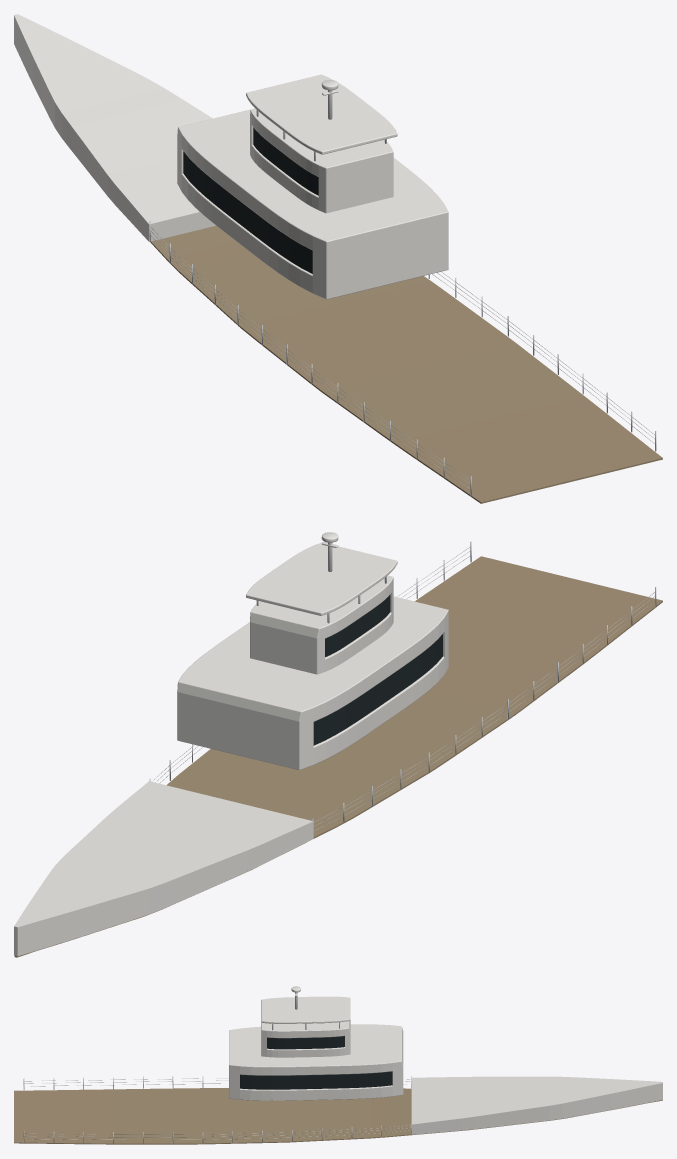
File: sovrastruttura.glb
The picture shows the model from 3 angles, top to bottom: view 1: azimuth 30°, elevation 25°; view 2: azimuth 150°, elevation 25°; view 3: azimuth 270°, elevation 25°; orthographic projection. The views are drawn at different scales.
Parts seen in each view (by area): view 1: COPERTA_MESH, SOVRASTRUTTURA_MESH; view 2: COPERTA_MESH, SOVRASTRUTTURA_MESH; view 3: COPERTA_MESH, SOVRASTRUTTURA_MESH.
Part boxes in pixels (x1=…): COPERTA_MESH: x1=14, y1=14, x2=662, y2=503; SOVRASTRUTTURA_MESH: x1=177, y1=74, x2=448, y2=299; COPERTA_MESH: x1=14, y1=542, x2=662, y2=957; SOVRASTRUTTURA_MESH: x1=177, y1=532, x2=448, y2=770; COPERTA_MESH: x1=14, y1=1076, x2=662, y2=1144; SOVRASTRUTTURA_MESH: x1=229, y1=986, x2=403, y2=1100.
Bounding box in the file's own units: 8.2 × 8.79 × 40.
